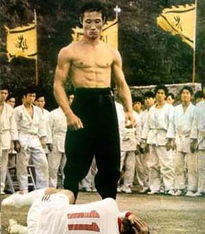10+: (1, 6, 205, 199)
down: (1, 184, 151, 234)
